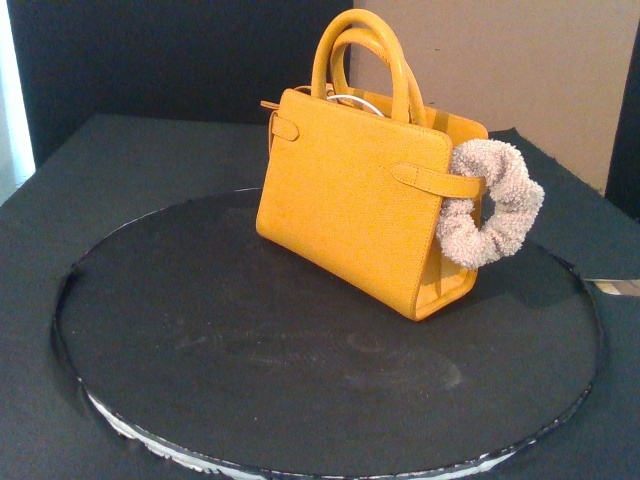bag: (254, 8, 490, 322)
